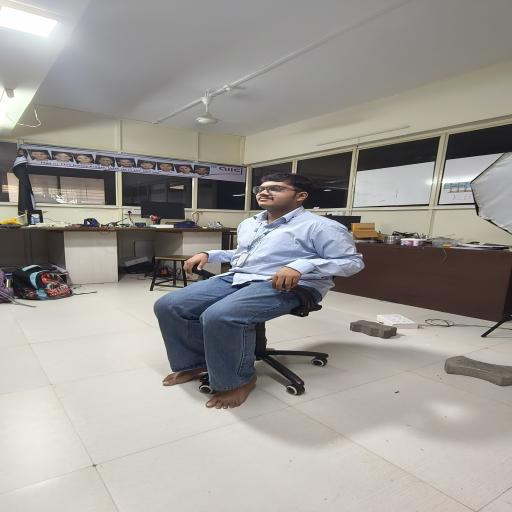survivor: (152, 172, 366, 410)
